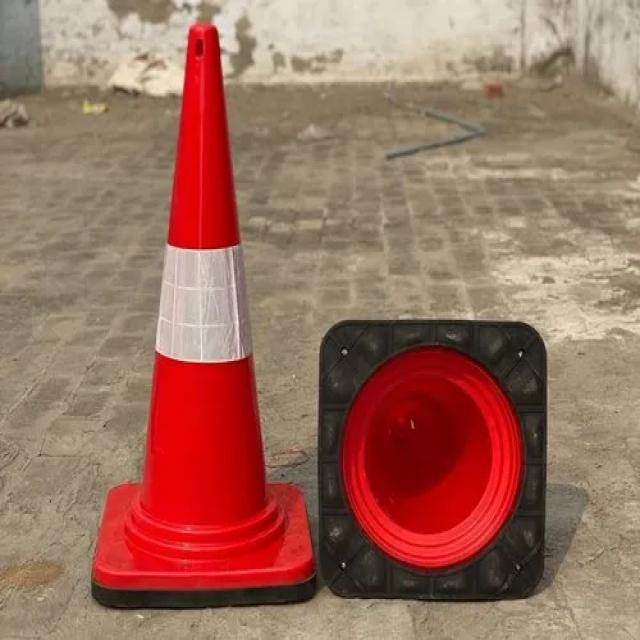Traffic Cone: (78, 2, 336, 629)
